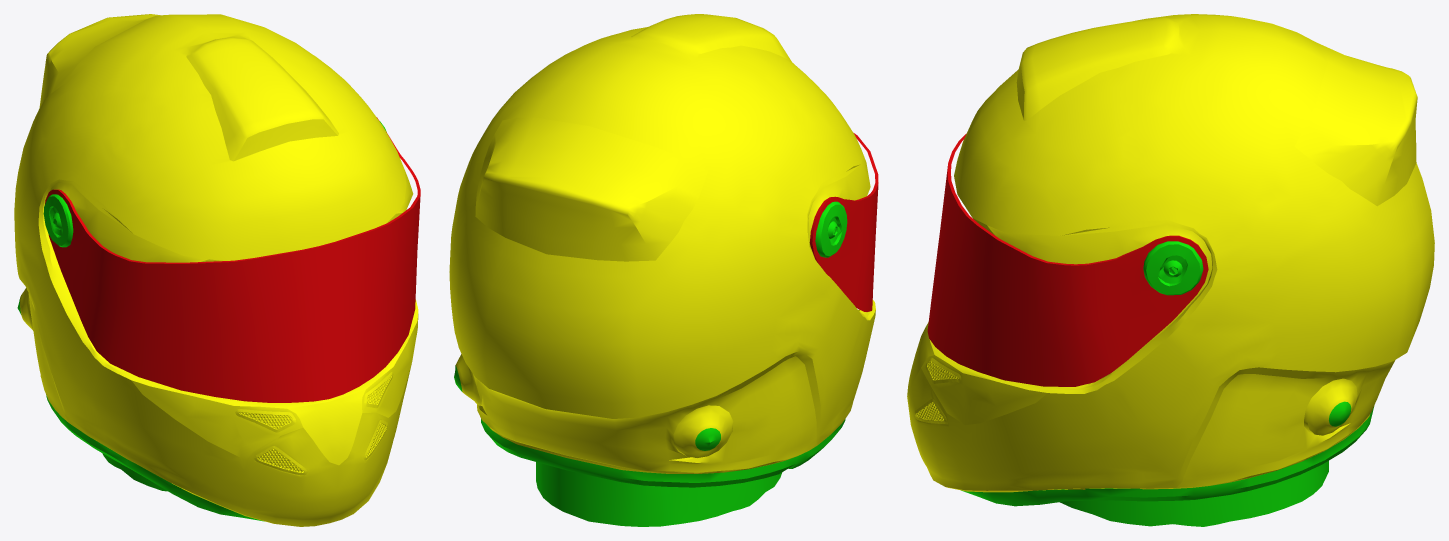
File: F1PS_Helmet_V03.glb
The picture shows the model from 3 angles, left to right: view 1: azimuth 30°, elevation 25°; view 2: azimuth 150°, elevation 25°; view 3: azimuth 270°, elevation 25°; orthographic projection. The views are drawn at different scales.
Parts seen in each view (by area): view 1: Helmet_main, Helmet_main_visor; view 2: Helmet_main, Helmet_main_visor; view 3: Helmet_main, Helmet_main_visor.
Part boxes in pixels (x1,y1,x2,y2): Helmet_main: (14, 14, 418, 526); Helmet_main_visor: (45, 117, 420, 402); Helmet_main: (449, 14, 875, 526); Helmet_main_visor: (809, 133, 878, 311); Helmet_main: (907, 14, 1434, 526); Helmet_main_visor: (927, 133, 1208, 386).
Bounding box in the file's own units: 1.9 × 2.23 × 2.38.
3 materials, 1 textured.
